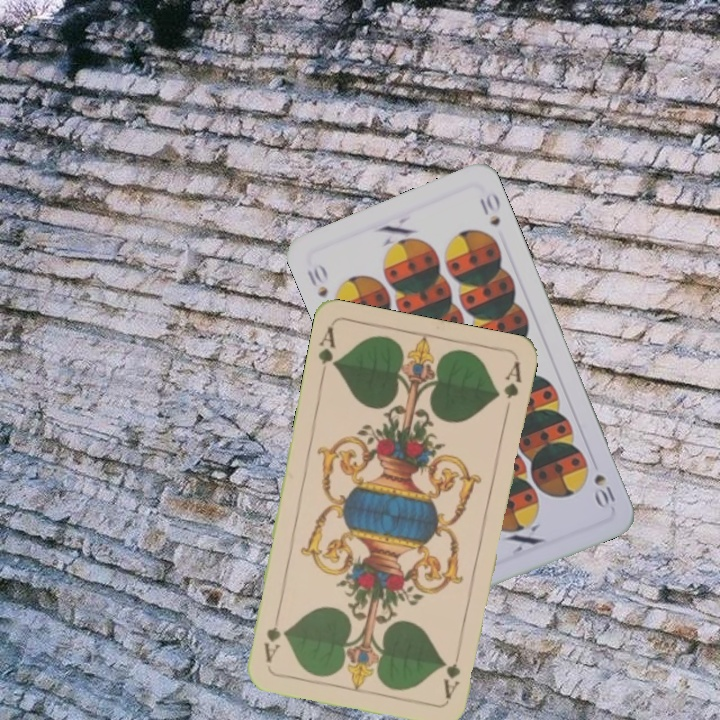GA: (314, 323, 340, 382), (439, 644, 464, 701)
S10: (303, 259, 331, 301), (590, 470, 618, 511)
